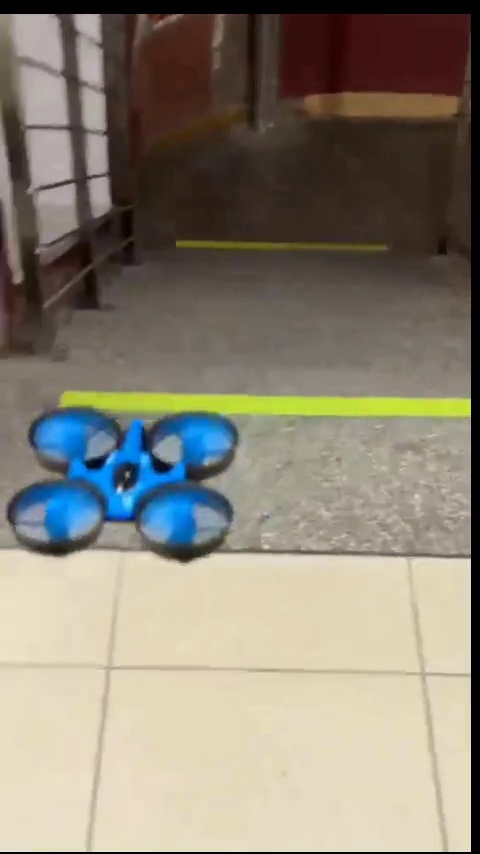drone: (12, 408, 230, 559)
